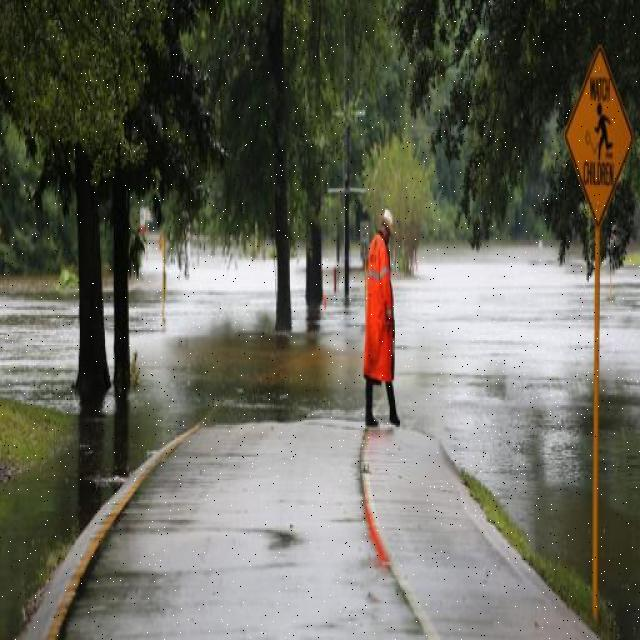rescuer: (332, 168, 428, 447)
